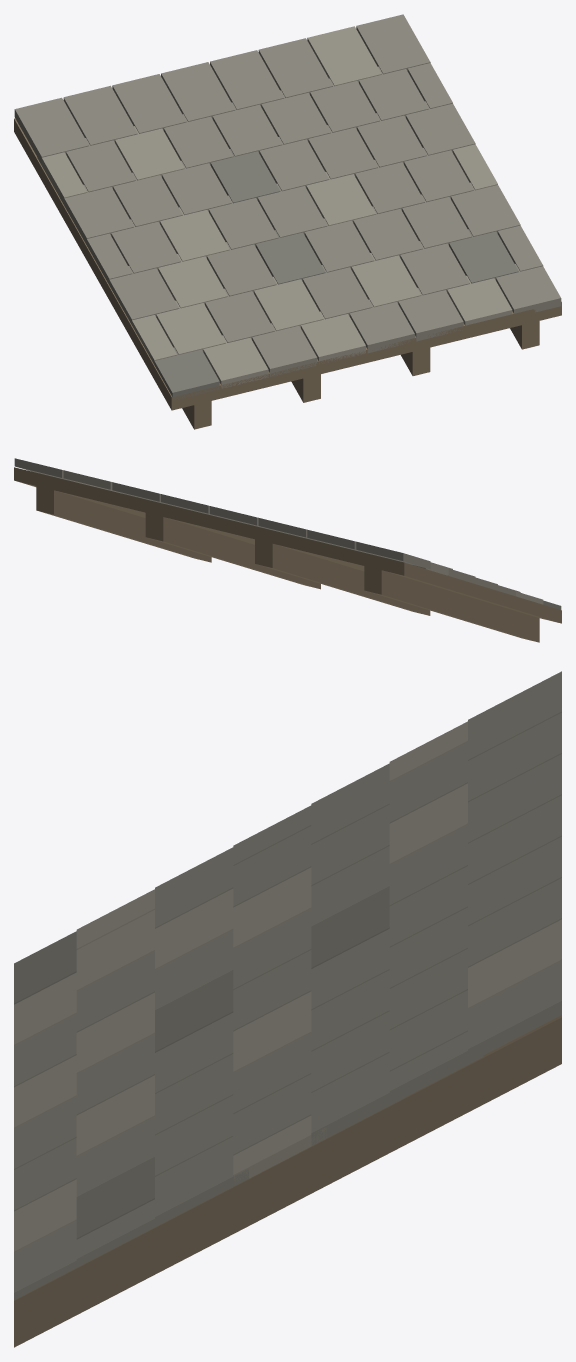
File: env_roof_shingle_fine_b.glb
3 renders of one model, top to bottom at view 1: azimuth 30°, elevation 25°; view 2: azimuth 150°, elevation 25°; view 3: azimuth 270°, elevation 25°, orthographic. The views are drawn at different scales.
Visible parts, largest first — view 1: material_4, material_5, material_2, material_6; view 2: material_2, material_4, material_5; view 3: material_4, material_5, material_2, material_6.
Part boxes in pixels (x1,y1,x2,y2): material_4: (14,14,561,376); material_5: (37,26,512,388); material_2: (14,118,561,429); material_6: (150,149,518,399); material_2: (14,467,561,642); material_4: (14,458,520,596); material_5: (63,470,543,604); material_4: (14,671,561,1300); material_5: (14,721,561,1252); material_2: (14,1015,561,1347); material_6: (14,887,389,1239).
Size of the model in its own units: 2 by 1.03 by 1.4.
